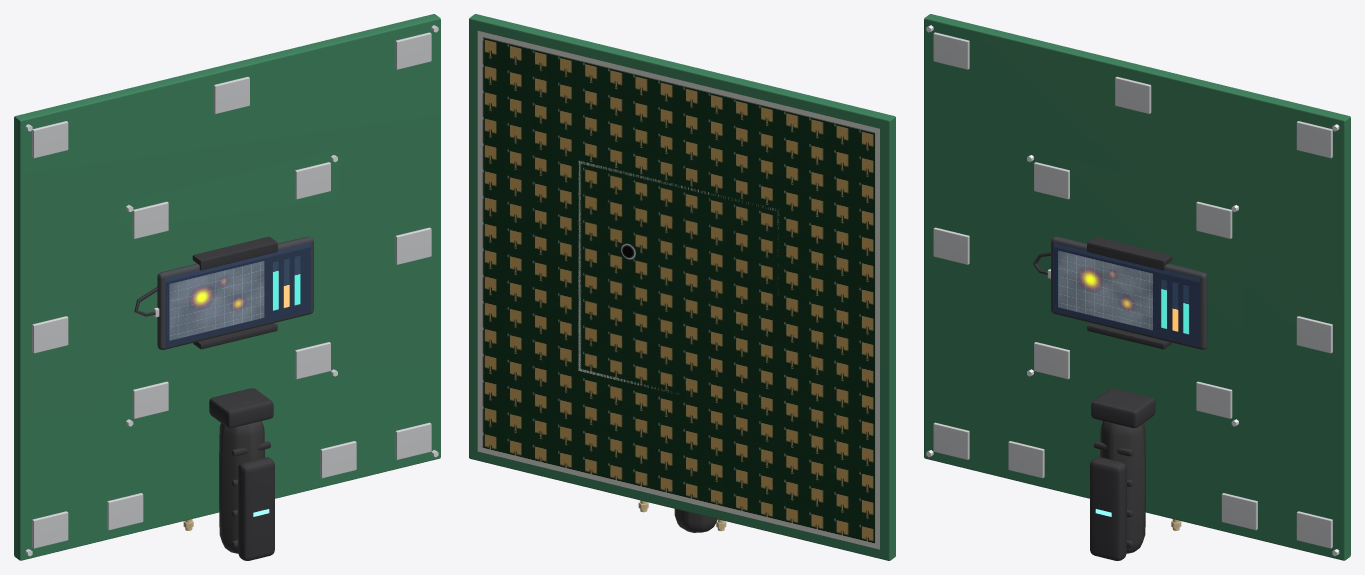
Rendered from rc_device.glb.
3 views of the same model, side by side, from view 1: azimuth 30°, elevation 25°; view 2: azimuth 150°, elevation 25°; view 3: azimuth 330°, elevation 25° (orthographic).
Parts seen in each view (by area): view 1: array16, array8, array16_rf, phone_screen, grip, array8_rf, phone_clamp, phone; view 2: array16_face, array8_face, array16, grip; view 3: array16, array8, array16_rf, phone_screen, grip, array8_rf, phone_clamp, phone.
Boxes of the visible parts, x1,y1,x2,y2 form: array16: [14, 14, 440, 560]; array8: [122, 149, 339, 429]; array16_rf: [25, 25, 438, 556]; phone_screen: [165, 243, 310, 347]; grip: [209, 388, 274, 560]; array8_rf: [126, 155, 337, 426]; phone_clamp: [192, 236, 277, 349]; phone: [157, 236, 313, 349]; array16_face: [477, 31, 879, 549]; array8_face: [578, 160, 779, 393]; array16: [469, 14, 895, 560]; grip: [674, 509, 717, 532]; array16: [924, 14, 1350, 560]; array8: [1025, 149, 1242, 429]; array16_rf: [926, 25, 1339, 556]; phone_screen: [1054, 243, 1199, 347]; grip: [1090, 388, 1155, 560]; array8_rf: [1027, 155, 1238, 426]; phone_clamp: [1087, 236, 1172, 349]; phone: [1051, 236, 1207, 349].
Bounding box in the file's own units: 0.4346 × 0.4673 × 0.068.
15 materials, 2 textured.
